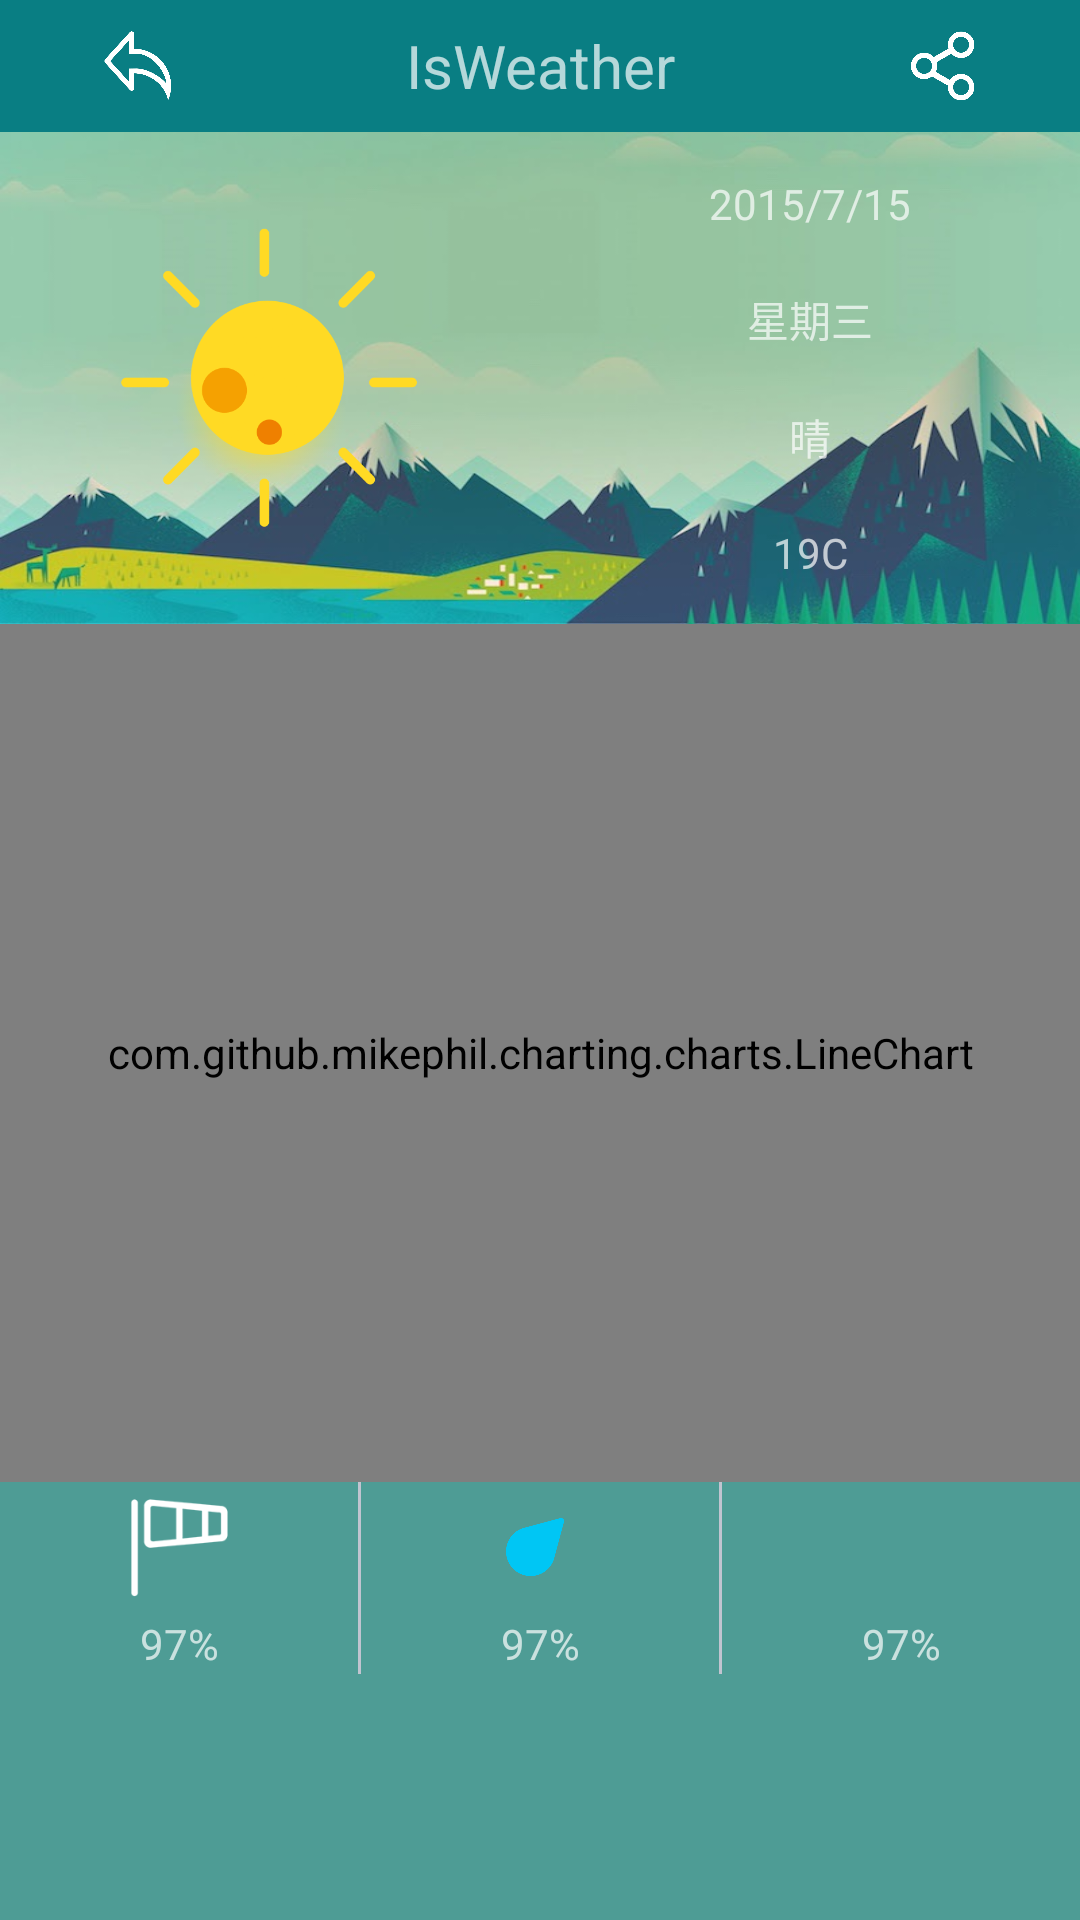

Icons on this 1080w x 1920h Android screen, each with its box as (x1, y1, x2, y2):
back: (104, 31, 171, 100)
share: (911, 31, 974, 100)
